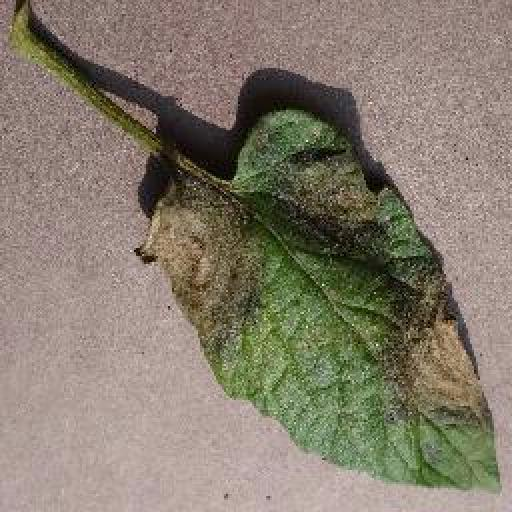disease_tomato: (142, 108, 506, 498)
